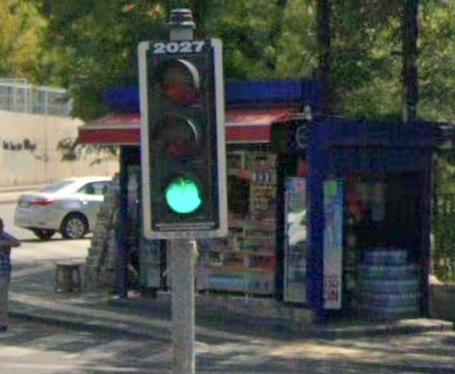greenlight: (137, 39, 224, 238)
